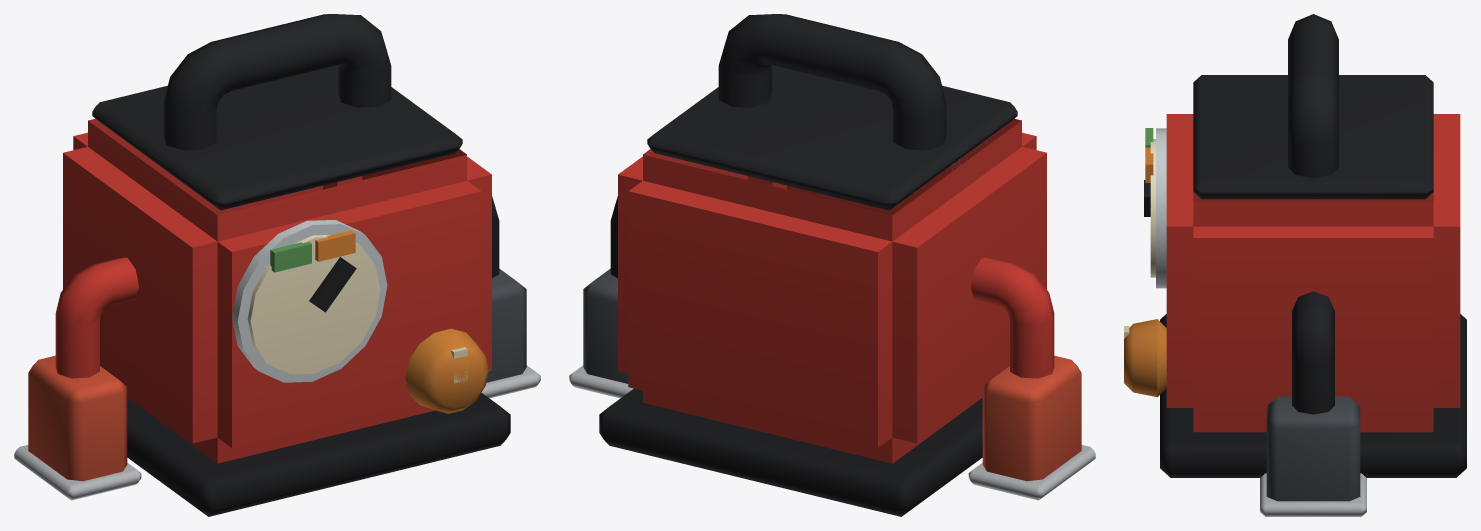
File: SM_BatteryCharger_01.glb
The picture shows the model from 3 angles, left to right: view 1: azimuth 30°, elevation 25°; view 2: azimuth 150°, elevation 25°; view 3: azimuth 270°, elevation 25°; orthographic projection. The views are drawn at different scales.
Parts seen in each view (by area): view 1: SM_BatteryCharger_01; view 2: SM_BatteryCharger_01; view 3: SM_BatteryCharger_01.
Boxes of the visible parts, box(x1,y1,x2,y2) form: SM_BatteryCharger_01: box(14, 14, 540, 516); SM_BatteryCharger_01: box(569, 14, 1095, 516); SM_BatteryCharger_01: box(1124, 14, 1466, 516).
Size of the model in its own units: 0.38 by 0.304 by 0.257.
Materials: 1 (1 with a texture image).
